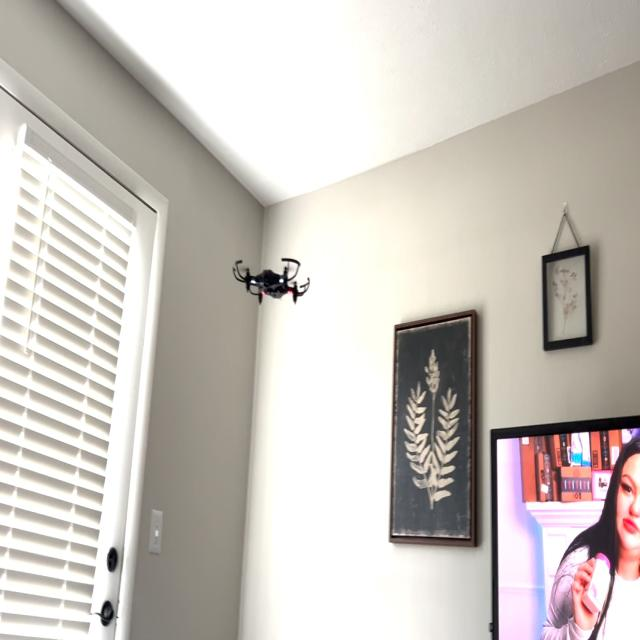drone: (228, 233, 316, 320)
